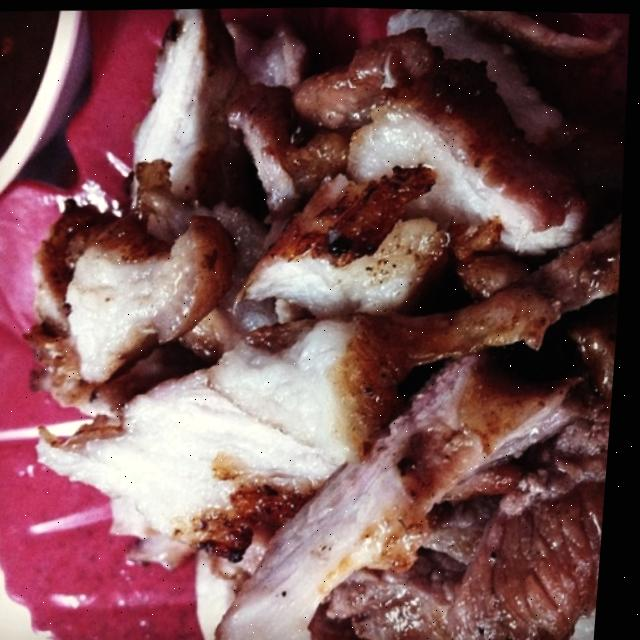猪肉菜式: (12, 1, 637, 640)
